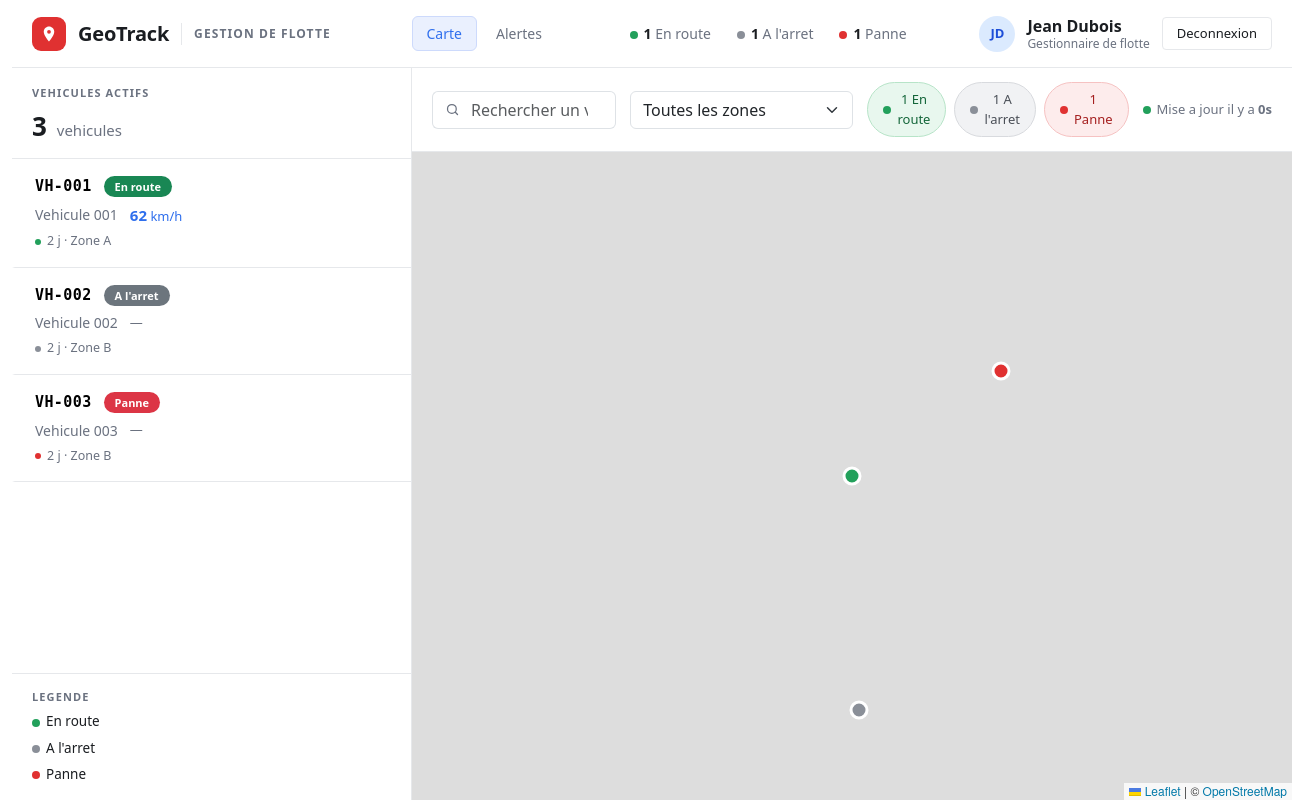
Scenario: App - navigation vers les alertes › bascule vers l historique des alertes au clic sur l onglet
The width and height of the screenshot is (1304, 800).
Click the button "Alertes" at (519, 34), box [481,16,557,51]
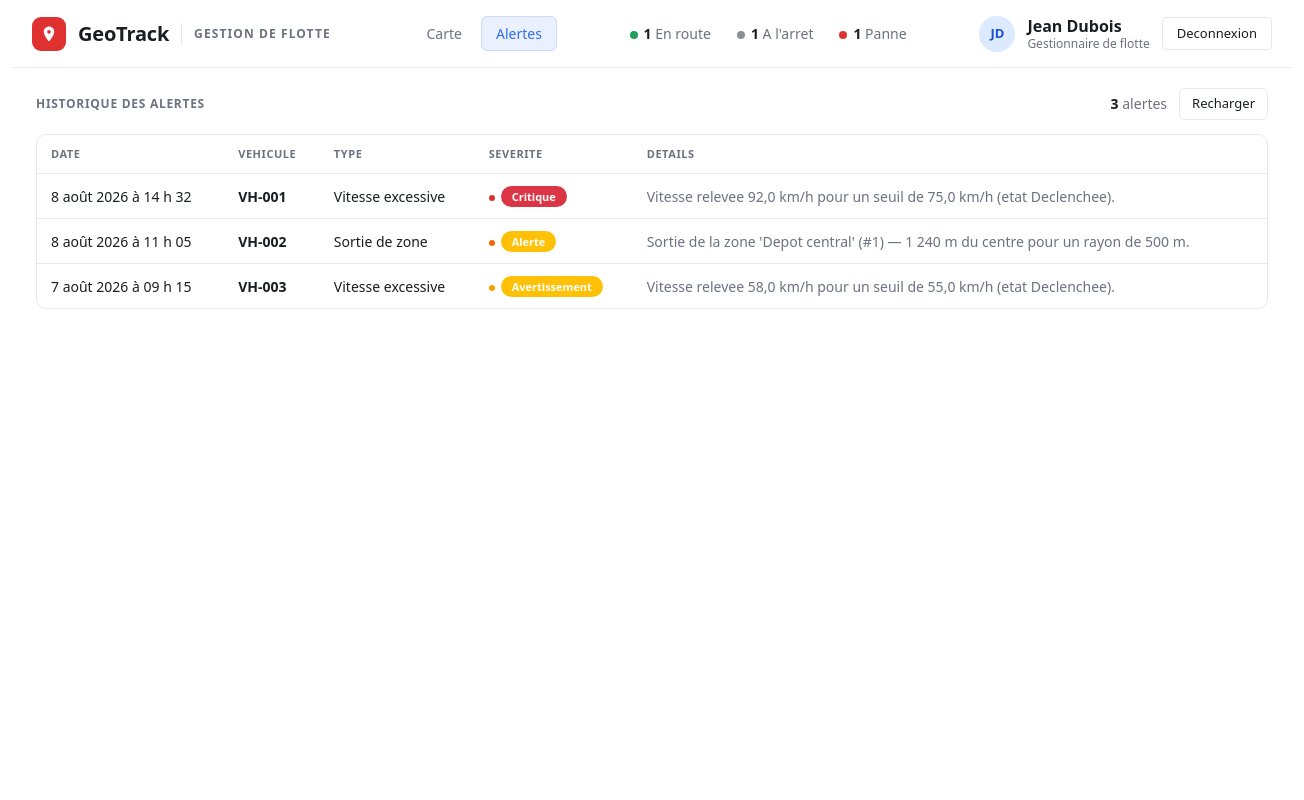
Now the table is shown, box [37,134,1267,308]
Now the text "Sortie de zone" is shown, box [320,218,475,264]
